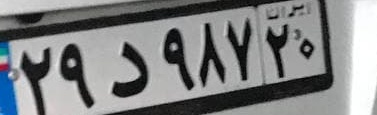character: (56, 35, 100, 114), (101, 33, 152, 100), (15, 43, 56, 115), (154, 22, 195, 94), (195, 18, 227, 88), (226, 12, 255, 82), (265, 23, 292, 80), (295, 29, 316, 65)
